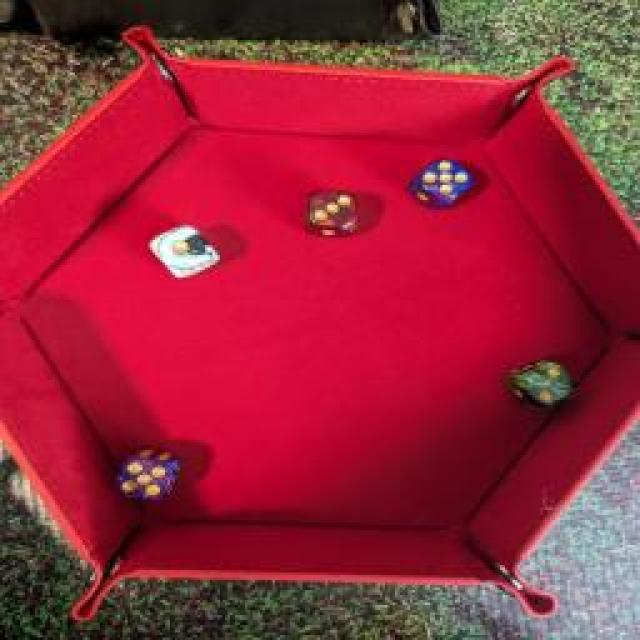dice_1: (145, 222, 233, 288)
dice_2: (504, 353, 576, 415)
dice_3: (299, 182, 361, 240)
dice_5: (110, 444, 185, 506), (400, 154, 475, 211)
